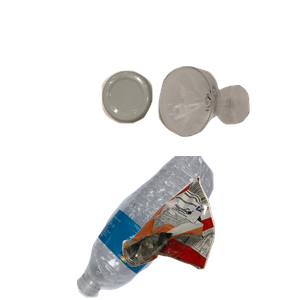glass: (156, 64, 300, 194)
metal: (99, 68, 244, 184)
plastic: (74, 156, 280, 300)
trash: (120, 174, 300, 300)
